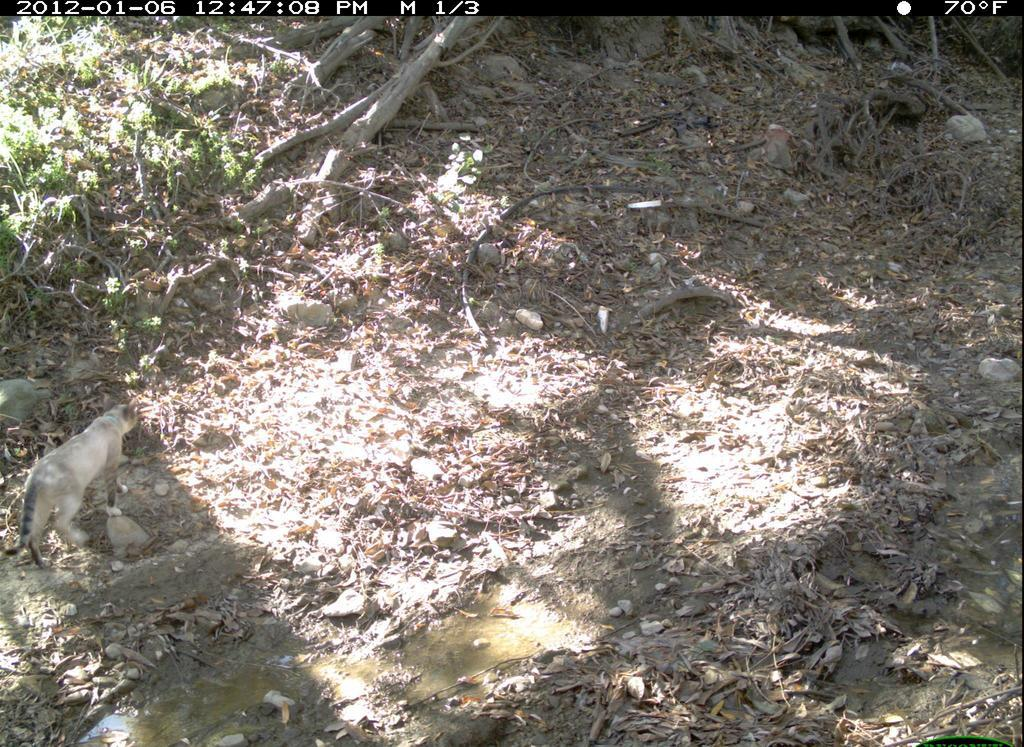cat: (1, 384, 152, 585)
